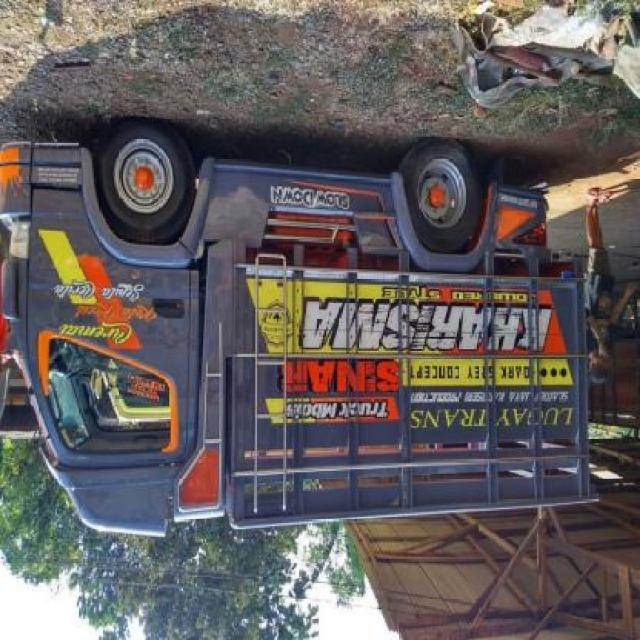truck: (1, 125, 606, 540)
